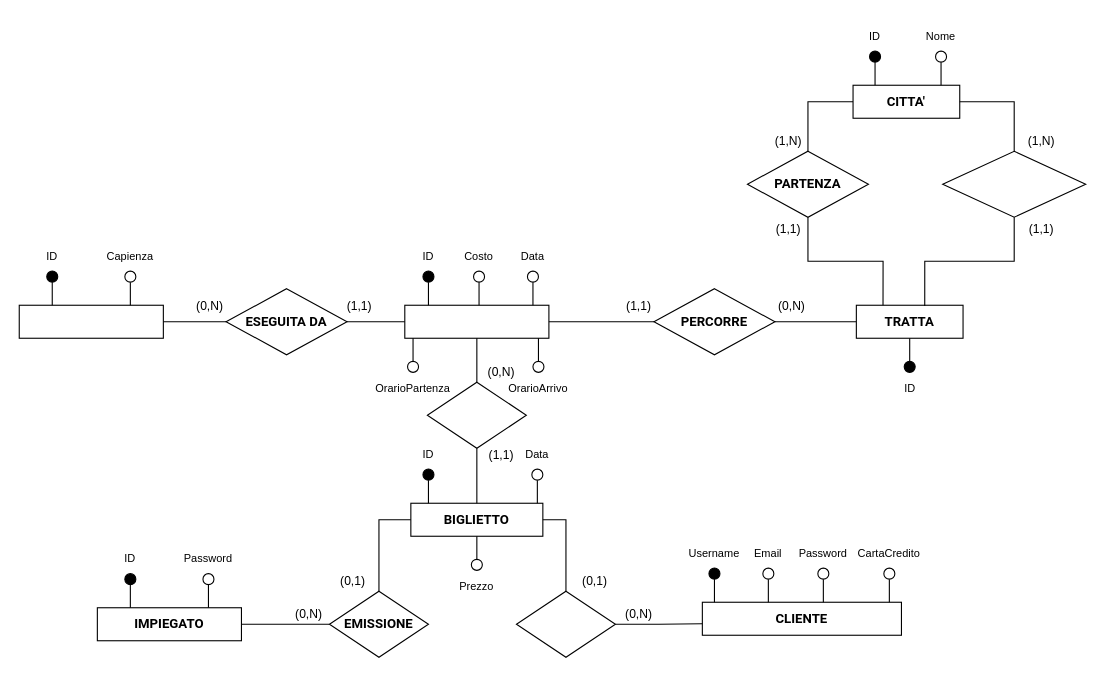
Image size: 1106x677. Some labels were removed from this diagram. The shapes that lost their labels are listed below. From the top down, each one's box as (x1, y1, x2, y2) in pixels, then its label:
(942, 150, 1086, 217): DESTINAZIONE
(18, 304, 163, 338): AUTOBUS
(404, 304, 549, 338): CORSA
(426, 381, 526, 448): VALIDITA'
(515, 590, 615, 657): ACQUISTO
